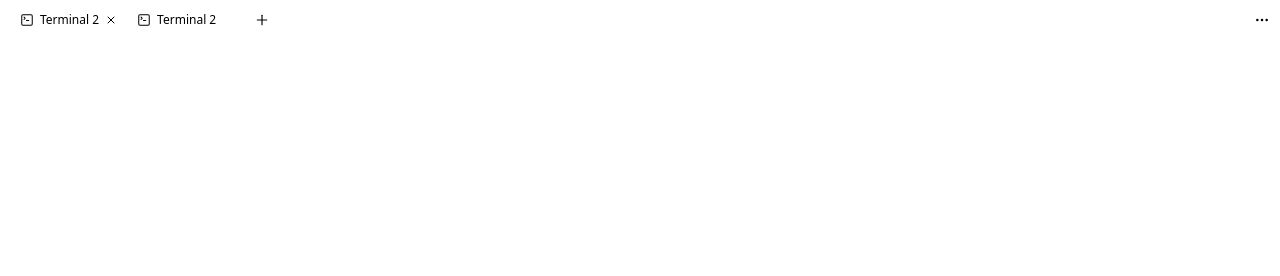
Scenario: WorkspaceTabStrip › disables close scopes without targets in the side dock
Right-click the tab with test id "workspace-tab-tab-term" at [60, 20], box left=20, top=6, right=99, bottom=34
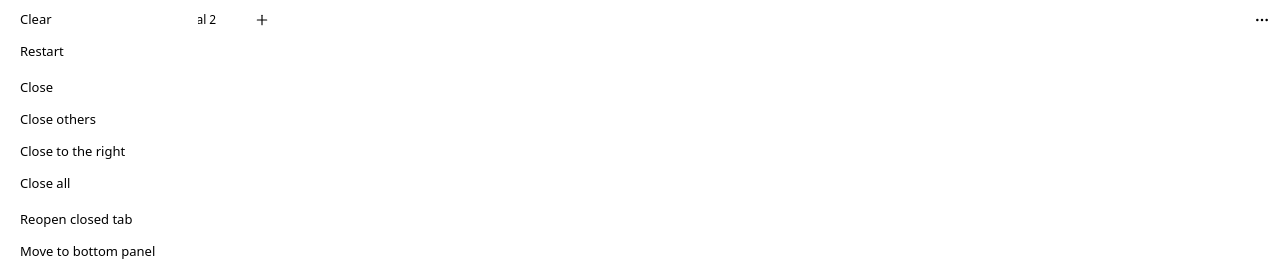
Expected: the menu item "Close others" is disabled, left=12, top=104, right=194, bottom=136
Expected: the menu item "Close to the right" is disabled, left=12, top=136, right=194, bottom=168
